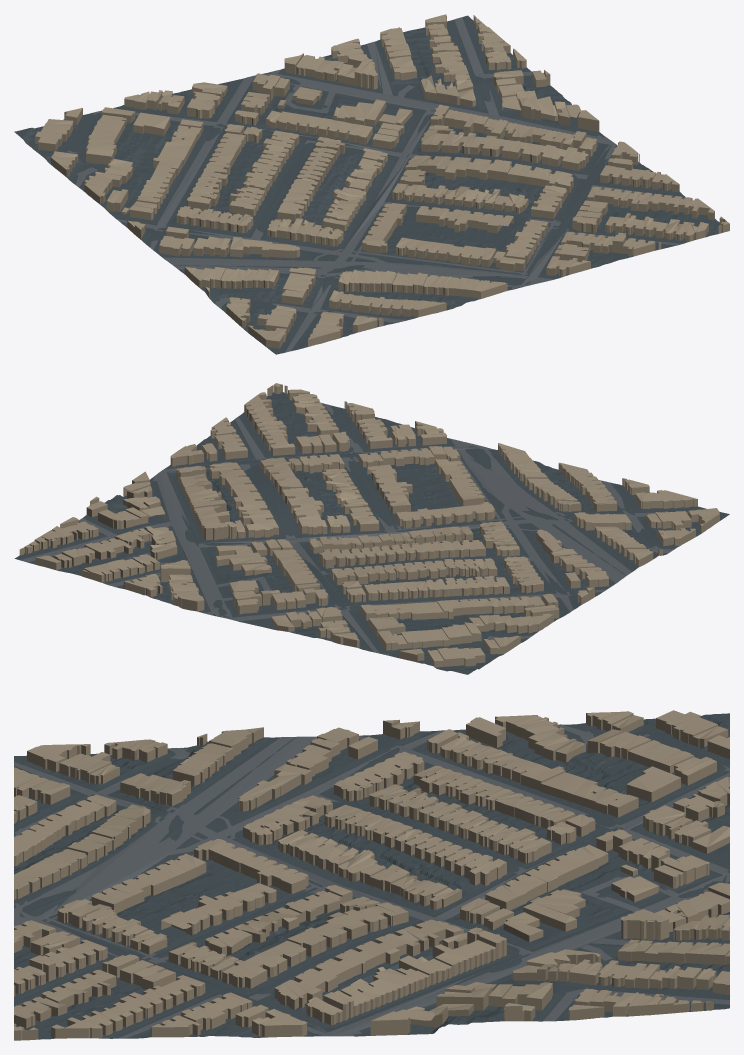
File: epsg26910-1429-10870.lod0.glb
The picture shows the model from 3 angles, top to bottom: view 1: azimuth 30°, elevation 25°; view 2: azimuth 150°, elevation 25°; view 3: azimuth 270°, elevation 25°; orthographic projection. The views are drawn at different scales.
Parts seen in each view (by area): view 1: epsg26910-1429-10870-lod0; view 2: epsg26910-1429-10870-lod0; view 3: epsg26910-1429-10870-lod0.
Boxes of the visible parts, left/top/right/bottom form: epsg26910-1429-10870-lod0: left=14, top=14, right=729, bottom=354; epsg26910-1429-10870-lod0: left=14, top=383, right=729, bottom=674; epsg26910-1429-10870-lod0: left=14, top=710, right=729, bottom=1040.
Bounding box in the file's own units: 384 × 35.21 × 384.
